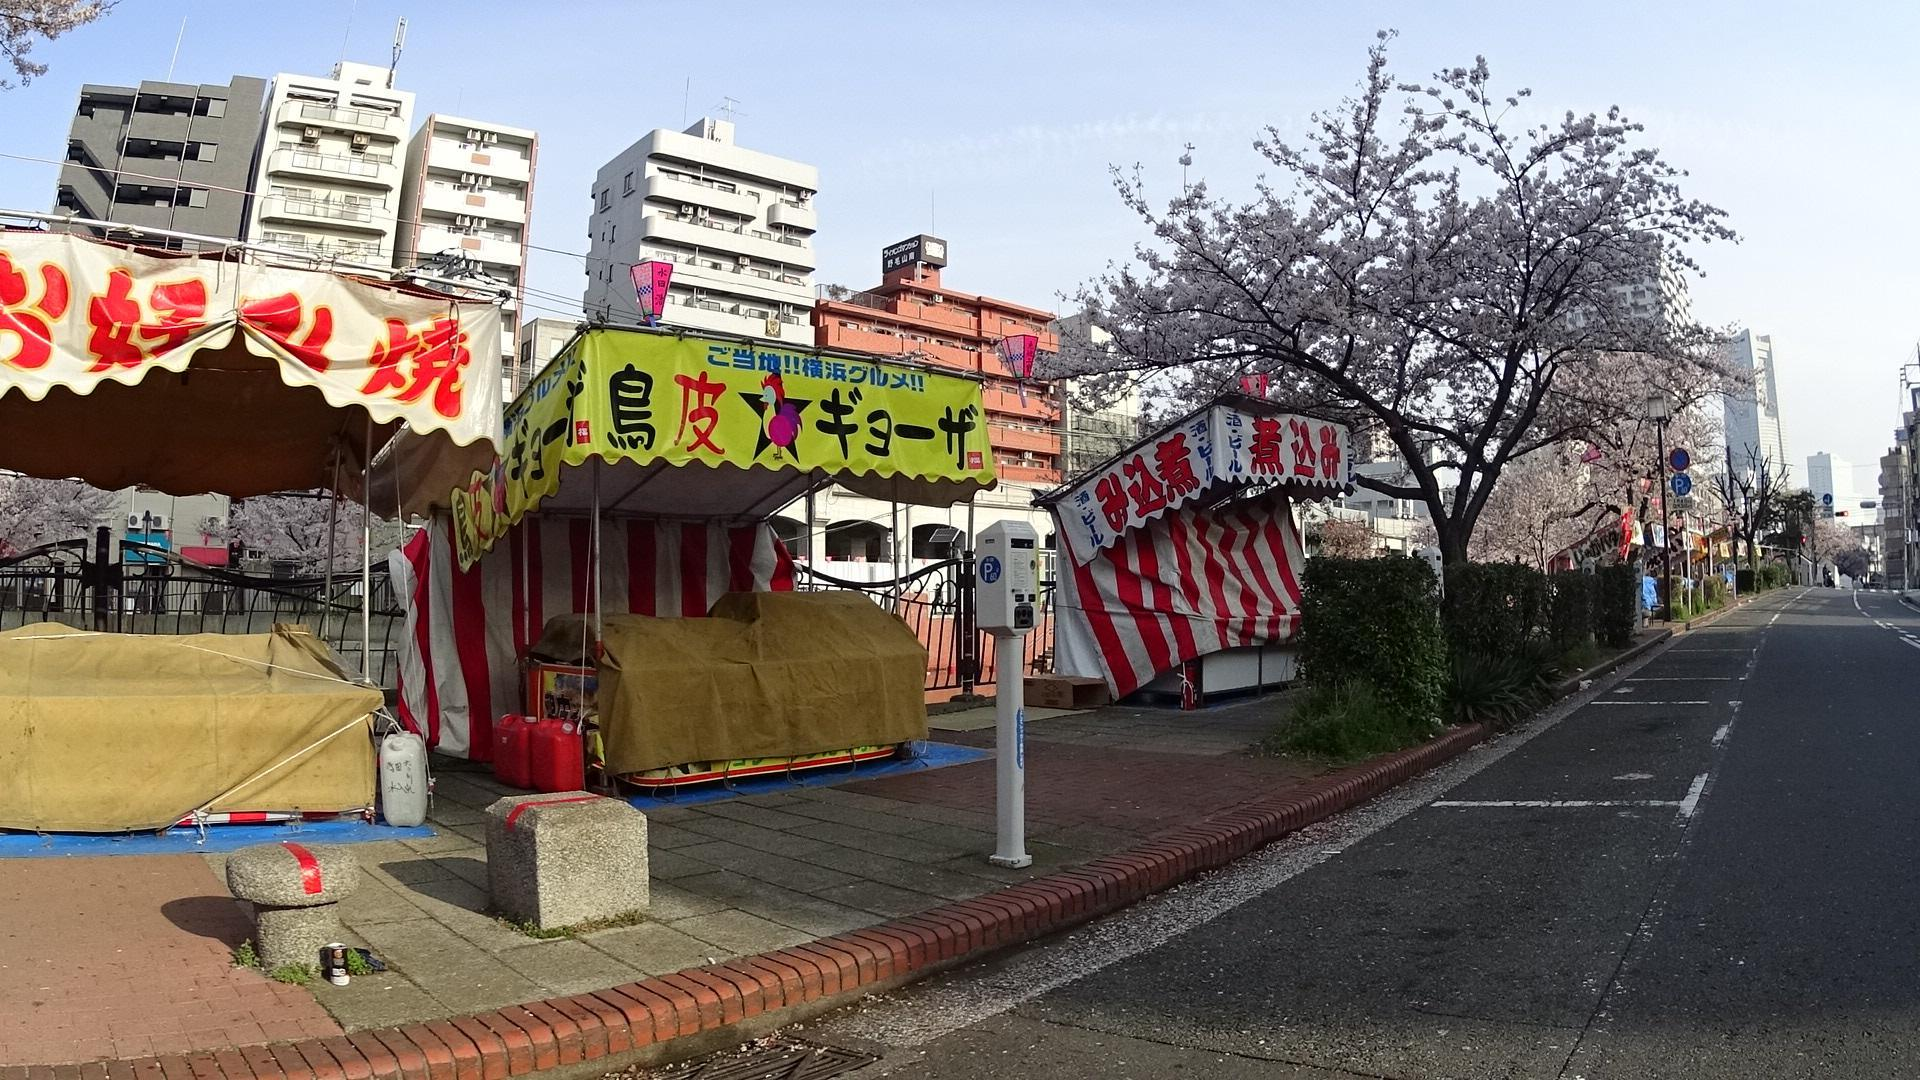vinyl banner: (3, 224, 512, 459), (584, 328, 994, 495), (446, 328, 607, 572), (1035, 417, 1218, 568), (1208, 410, 1364, 500)
